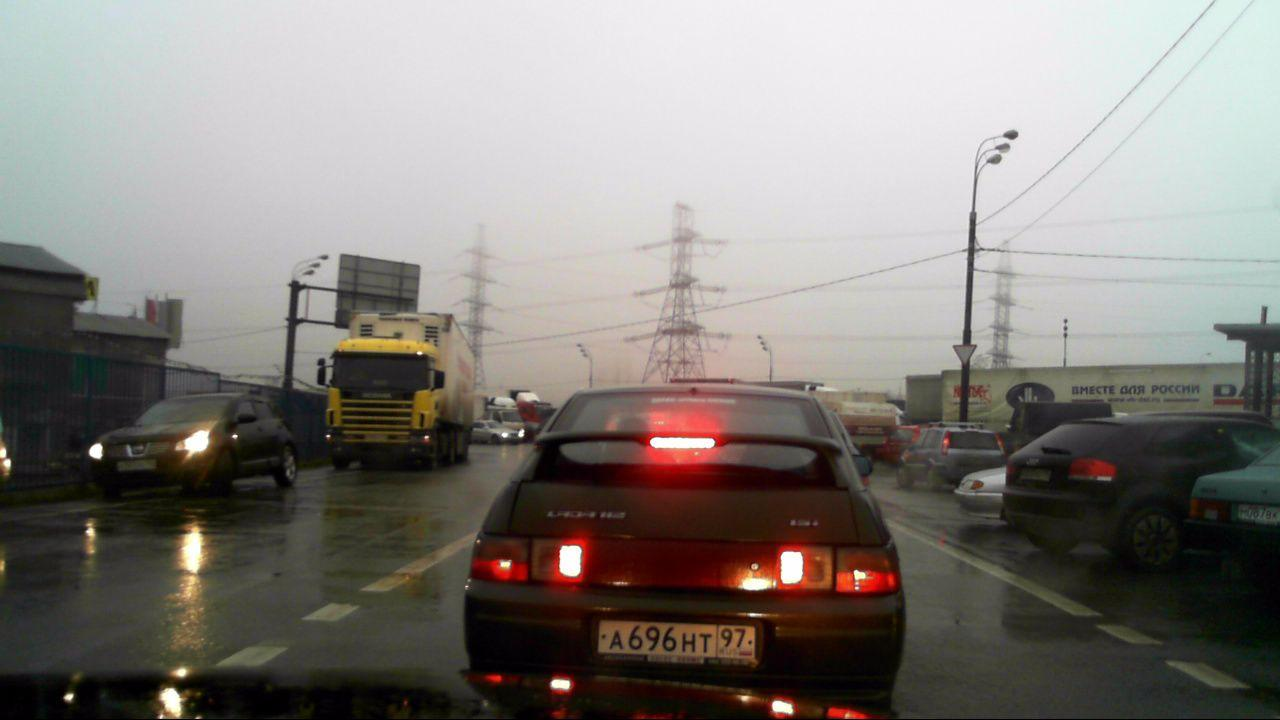2_4: (952, 344, 977, 365)
